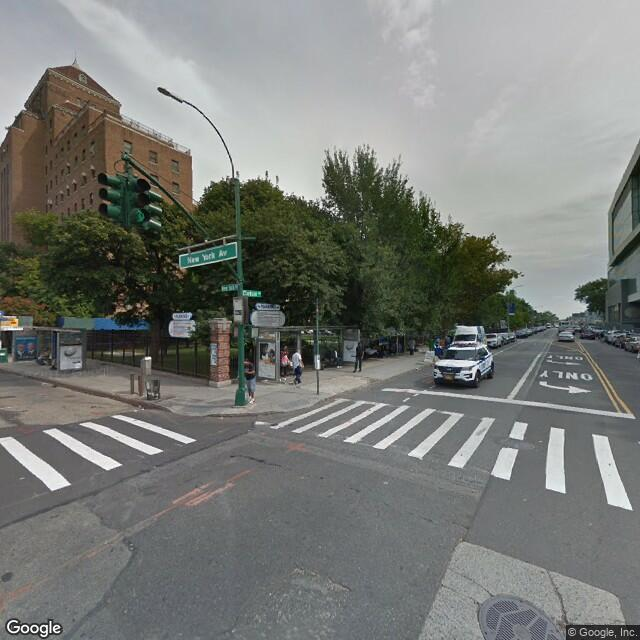litter: (381, 478, 391, 487), (18, 475, 26, 482), (131, 406, 138, 414), (139, 405, 146, 413)
